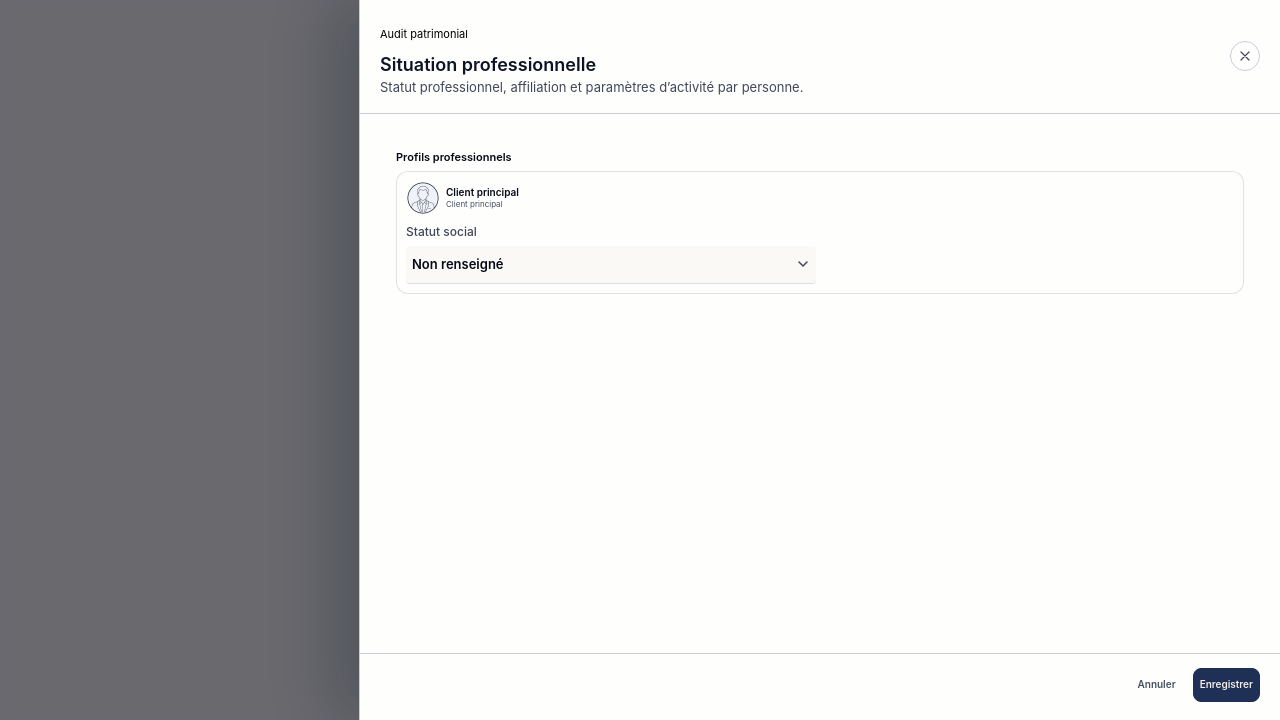
Test: ProfessionDrawer › affiche le statut social comme premier pivot sans modules avancés
Expected: the text "Statut professionnel, affiliation et paramètres d’activité par personne." is shown, [380,79,803,97]
Click the button named "Statut social" at (458, 264), box [406,246,816,284]
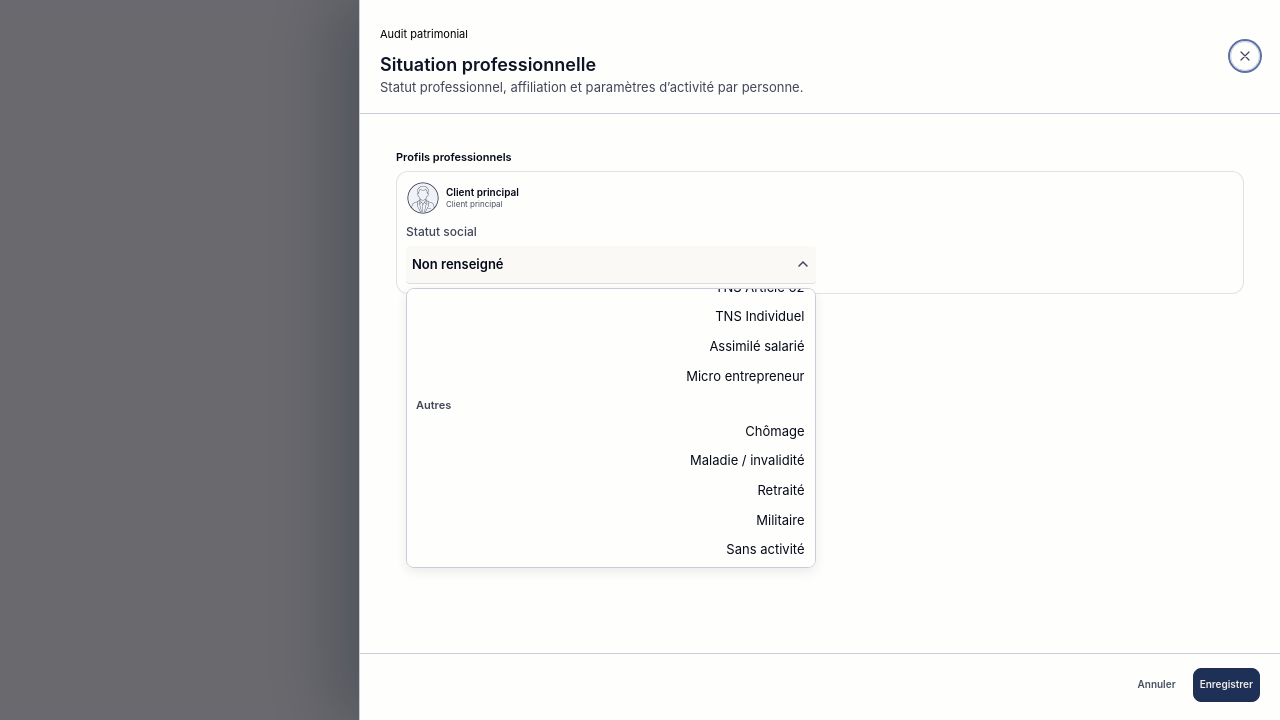
Now the list item "Autres" is shown, box [416,398,451,412]
Now the option "Micro entrepreneur" is shown, box [686,368,804,384]
Now the option "TNS Individuel" is shown, box [715,308,804,324]
